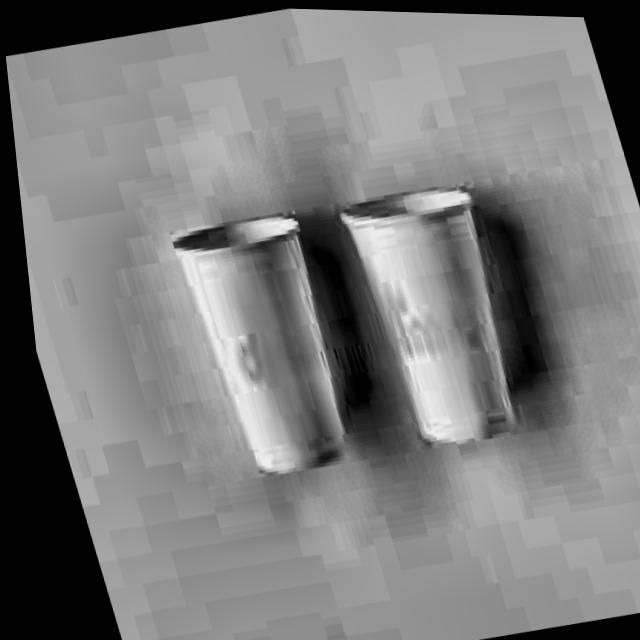Cup: (314, 157, 543, 469), (141, 192, 372, 495)
